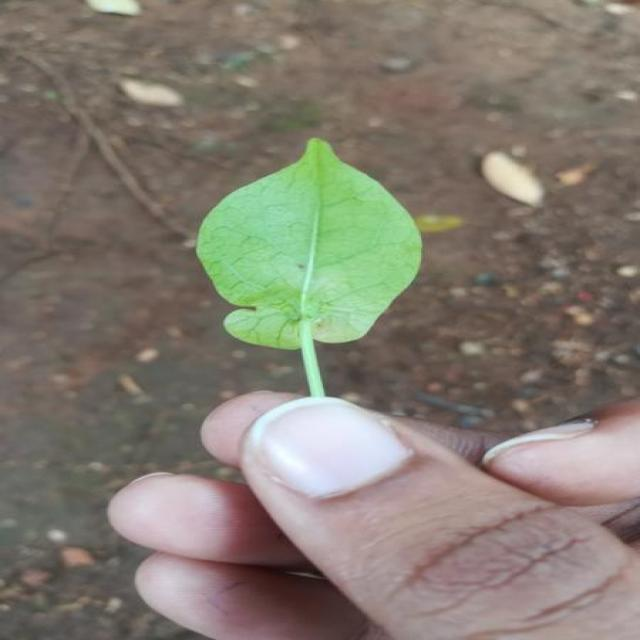Amruthaballi: (197, 139, 422, 395)
